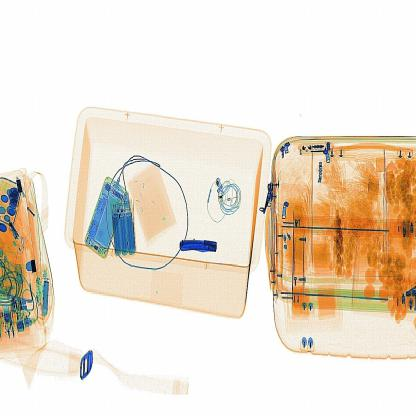knife: (180, 236, 219, 257)
